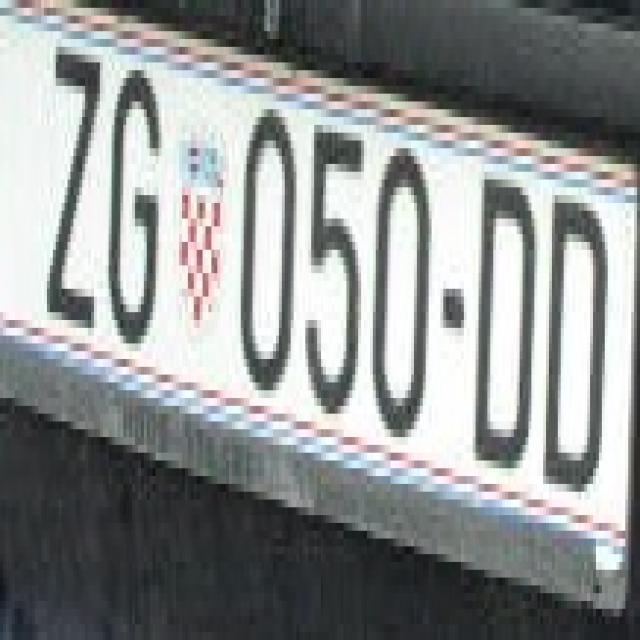0: (234, 94, 294, 414), (376, 148, 432, 444)
5: (308, 110, 358, 430)
D: (537, 180, 608, 500), (472, 148, 528, 468)
G: (102, 62, 158, 352)
Z: (44, 39, 94, 312)
